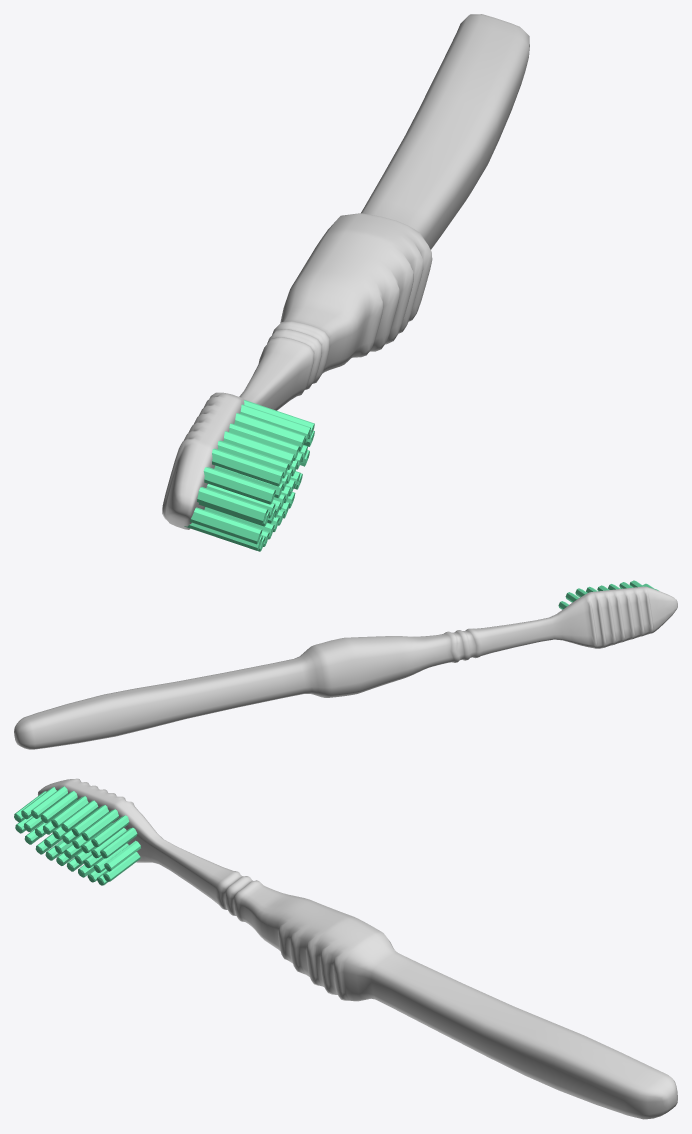
The model's file is toothbrush.glb.
The picture shows the model from 3 angles, top to bottom: view 1: azimuth 30°, elevation 25°; view 2: azimuth 150°, elevation 25°; view 3: azimuth 270°, elevation 25°; orthographic projection. The views are drawn at different scales.
Parts seen in each view (by area): view 1: Toothbrush_New; view 2: Toothbrush_New; view 3: Toothbrush_New.
Boxes of the visible parts, x1=… form: Toothbrush_New: x1=162, y1=14, x2=529, y2=551; Toothbrush_New: x1=14, y1=580, x2=677, y2=749; Toothbrush_New: x1=14, y1=778, x2=677, y2=1119.
Size of the model in its own units: 0.1523 by 0.0297 by 0.1686.
